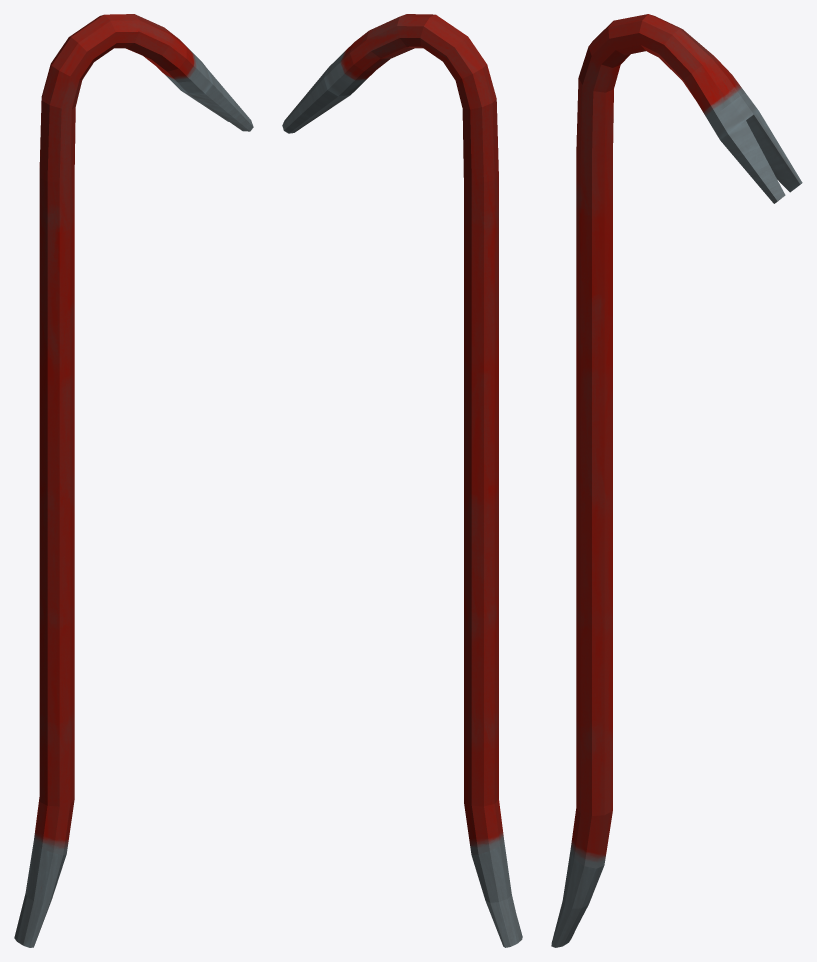
Rendered from Crowbar.fbx.
The picture shows the model from 3 angles, left to right: view 1: azimuth 30°, elevation 25°; view 2: azimuth 150°, elevation 25°; view 3: azimuth 330°, elevation 25°; orthographic projection. The views are drawn at different scales.
Visible parts, largest first — view 1: Cylinder; view 2: Cylinder; view 3: Cylinder.
Boxes of the visible parts, box(x1,y1,x2,y2) form: Cylinder: box(14, 14, 253, 947); Cylinder: box(282, 14, 522, 947); Cylinder: box(551, 14, 802, 947).
Bounding box in the file's own units: 14.49 × 3.31 × 55.3.
